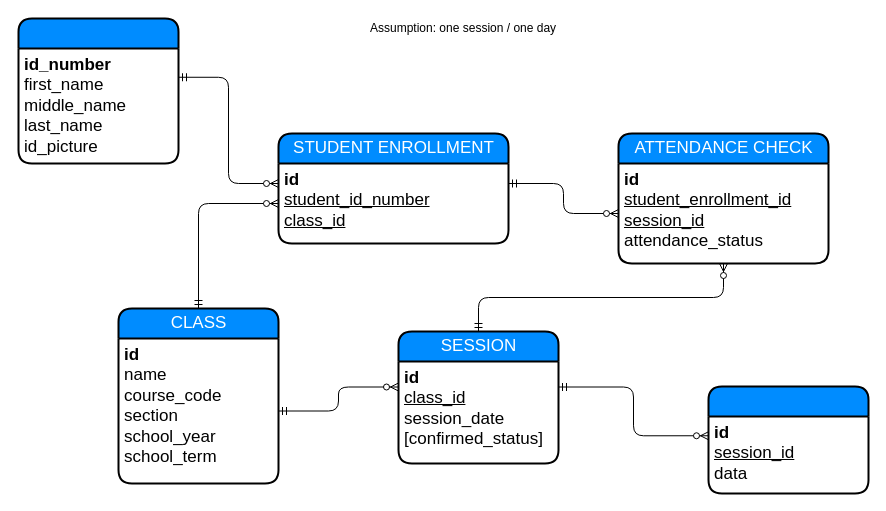
The diagram is 886 pixels wide and 511 high, and some of its shapes have lost their labels. The box of each missing label's shape, as (x1, y1, x2, y2) in pixels:
IMAGE: (707, 385, 869, 494)
STUDENT: (17, 17, 179, 164)
